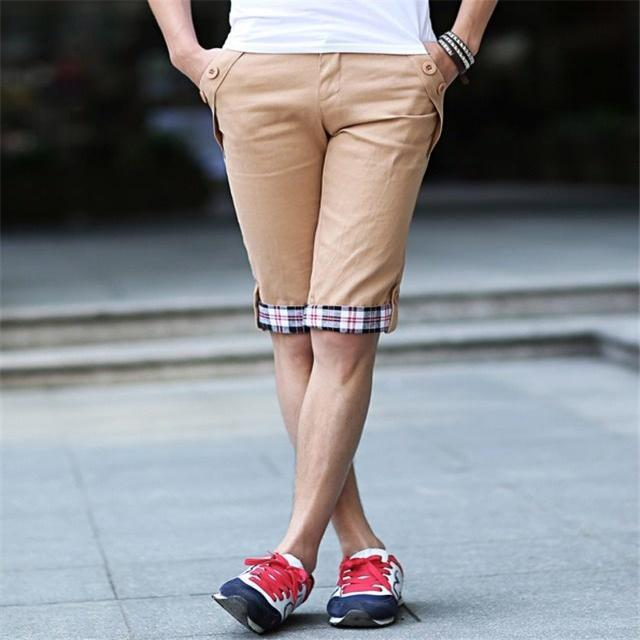shorts: (193, 32, 500, 376)
